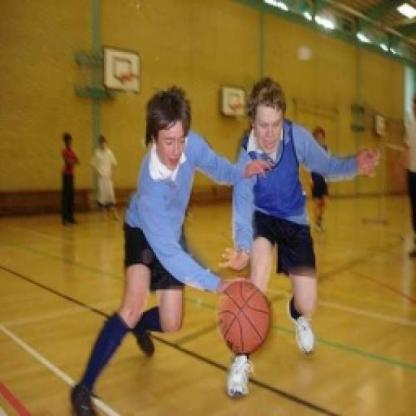basketball: (213, 278, 275, 356)
